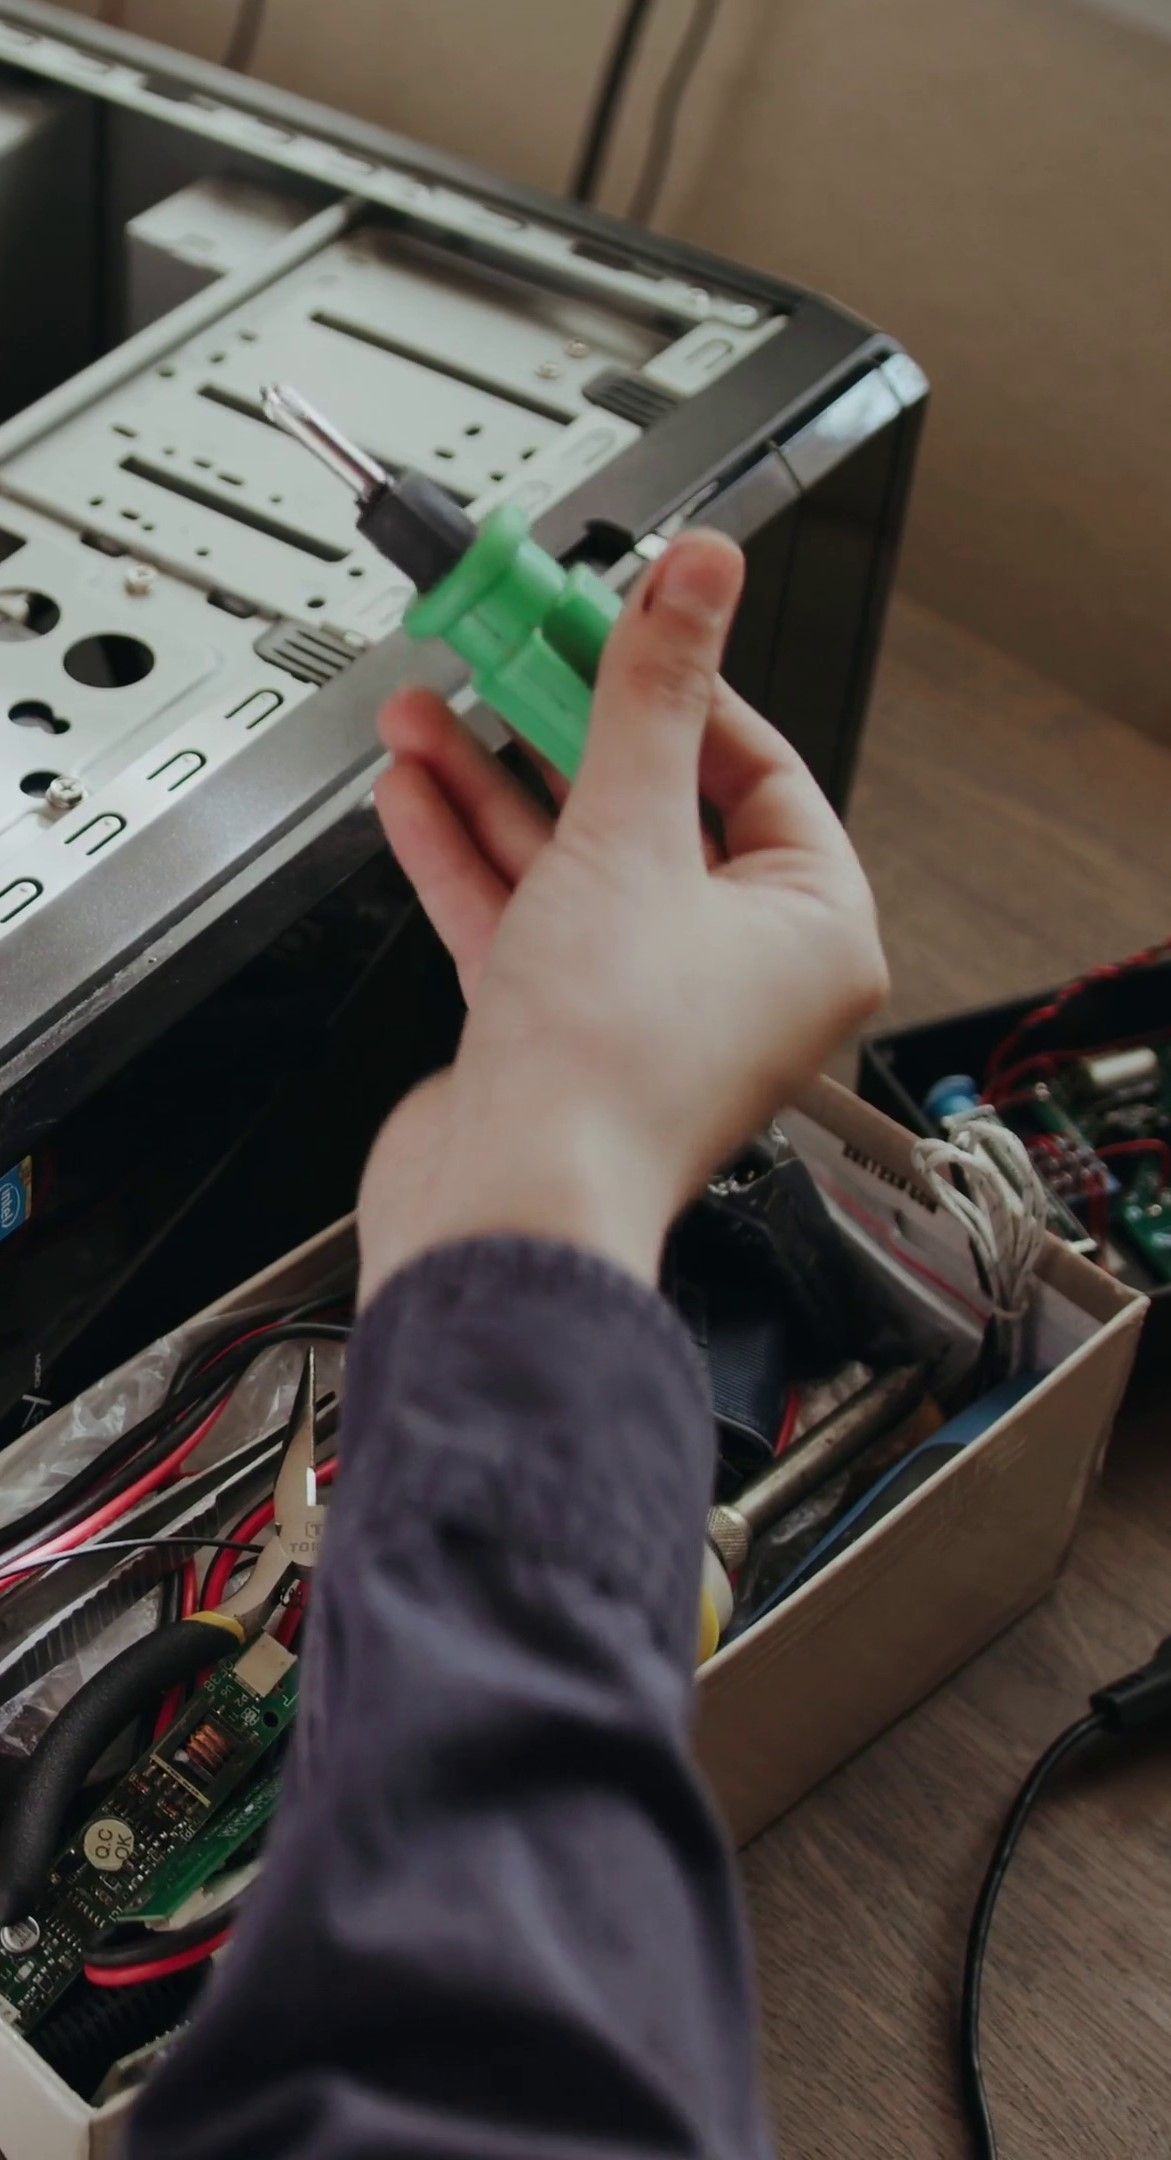screwdriver: (245, 371, 720, 819)
